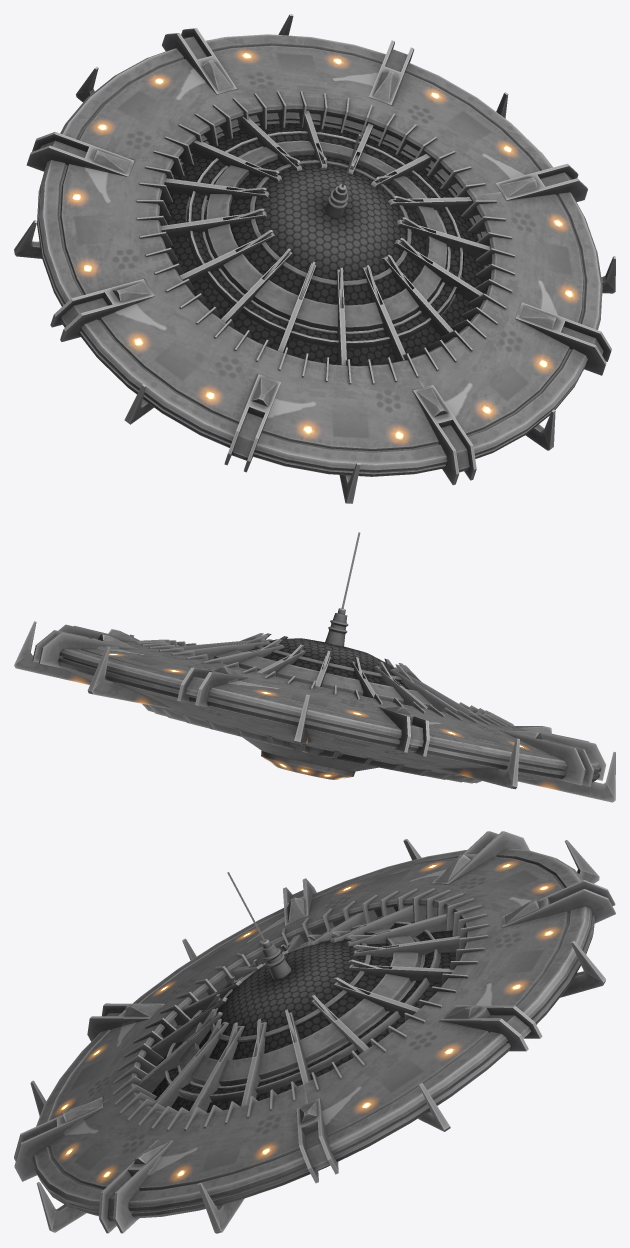
Rendered from classic_ufo.glb.
3 renders of one model, top to bottom at view 1: azimuth 30°, elevation 25°; view 2: azimuth 150°, elevation 25°; view 3: azimuth 270°, elevation 25°, orthographic. The views are drawn at different scales.
Parts seen in each view (by area): view 1: Classic_UFO_02_poly_aiStandardSurface1_0_5; view 2: Classic_UFO_02_poly_aiStandardSurface1_0_5; view 3: Classic_UFO_02_poly_aiStandardSurface1_0_5.
Part boxes in pixels (bbox=[...]): Classic_UFO_02_poly_aiStandardSurface1_0_5: bbox=[14, 14, 615, 503]; Classic_UFO_02_poly_aiStandardSurface1_0_5: bbox=[14, 532, 615, 802]; Classic_UFO_02_poly_aiStandardSurface1_0_5: bbox=[14, 831, 615, 1233].
Bounding box in the file's own units: 23.08 × 11.81 × 21.05.
1 material, 1 textured.
